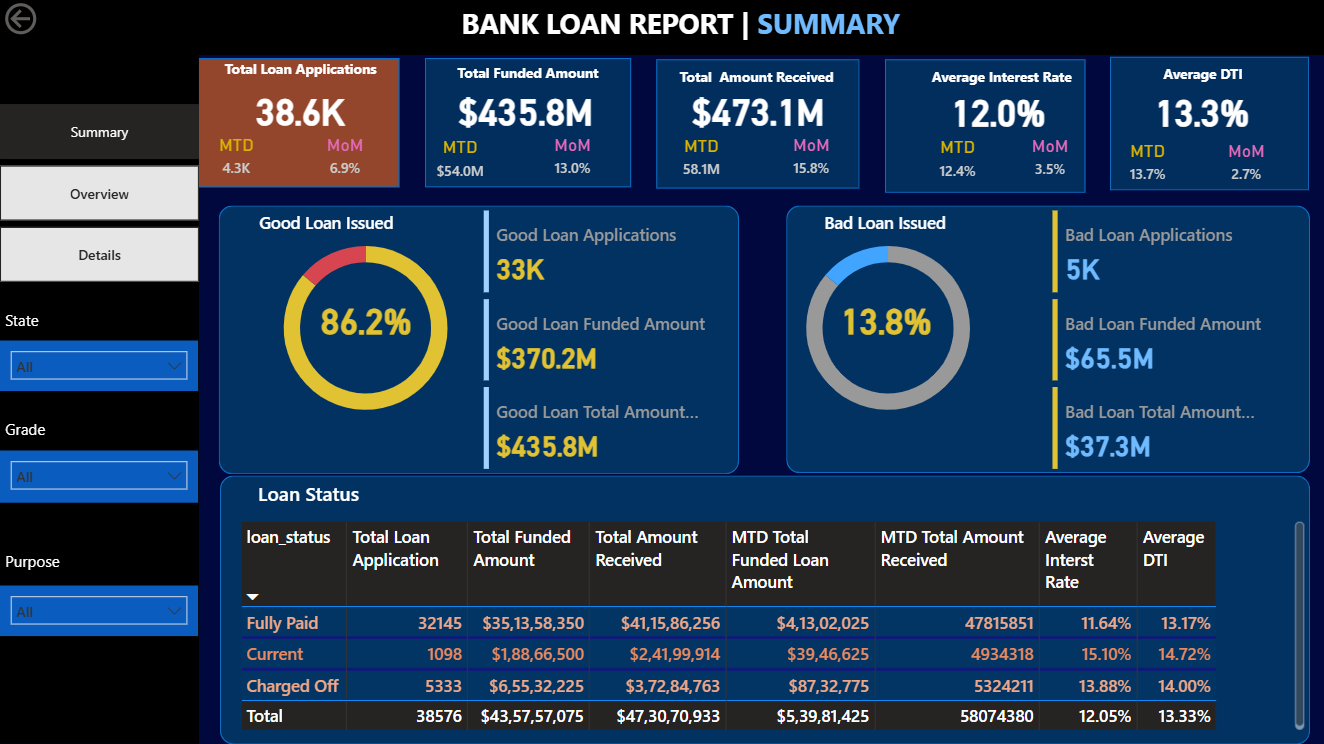

This screenshot's page, from the dashboard's own definition file:
{"tool":"powerbi","page":{"name":"Summary","canvas":[1280,720],"ordinal":0},"visuals":[{"type":"shape","box":[0,0,1280.3,55],"z":0},{"type":"shape","box":[190.7,57.6,194.9,124.9],"z":1000},{"type":"shape","box":[0,54.9,192,665.5],"z":2000},{"type":"card","fields":{"Values":["Bank_loan_data.Total Loan Application"]},"box":[226.4,57.6,126.2,98.8],"z":3000},{"type":"textbox","box":[440.5,1.4,447.3,53.5],"z":4000},{"type":"textbox","box":[211.3,54.9,157.8,45.3],"z":5000},{"type":"card","title":"MTD","fields":{"Values":["Bank_loan_data.MTD Loan Applications"]},"box":[192.1,131.7,72.7,50.8],"z":6000},{"type":"card","title":"MoM","fields":{"Values":["Bank_loan_data.MoM Loan Applications"]},"box":[296.4,131.7,72.7,50.8],"z":7000},{"type":"shape","box":[633.3,59,196.2,124.9],"z":8000},{"type":"card","fields":{"Values":["Bank_loan_data.Total Amount Received"]},"box":[661.4,57.6,141.3,98.8],"z":9000},{"type":"card","title":"MTD","fields":{"Values":["Bank_loan_data.MTD Total Amount Received"]},"box":[640.8,133.1,72.7,50.8],"z":10000},{"type":"card","title":"MoM","fields":{"Values":["Bank_loan_data.MoM Total Amount Received"]},"box":[746.5,131.7,72.7,50.8],"z":11000},{"type":"textbox","box":[642.2,61.7,177,45.3],"z":12000},{"type":"shape","box":[853.9,59,193.5,129],"z":13000},{"type":"card","title":"MTD","fields":{"Values":["Bank_loan_data.MTD Interest Rate"]},"box":[887.8,134.5,72.7,50.8],"z":14000},{"type":"card","title":"MoM","fields":{"Values":["Bank_loan_data.MoM Average Interset Rate"]},"box":[977,133.1,72.7,50.8],"z":15000},{"type":"textbox","box":[878.2,61.7,177,46.7],"z":16000},{"type":"card","fields":{"Values":["Bank_loan_data.Average Interst Rate"]},"box":[893.3,59,141.3,98.8],"z":17000},{"type":"shape","box":[1071.7,56.3,192.1,129],"z":18000},{"type":"card","title":"MTD","fields":{"Values":["Bank_loan_data.MTD Average DTI"]},"box":[1071.7,137.2,72.7,50.8],"z":19000},{"type":"card","title":"MoM","fields":{"Values":["Bank_loan_data.MoM Average DTI"]},"box":[1166.4,137.2,72.7,50.8],"z":20000},{"type":"card","fields":{"Values":["Bank_loan_data.Average DTI"]},"box":[1089.5,59,141.3,98.8],"z":21000},{"type":"textbox","box":[1073.1,59,177,46.7],"z":22000},{"type":"shape","box":[409.9,57.6,199,124.9],"z":23000},{"type":"card","fields":{"Values":["Bank_loan_data.Total Funded Amount"]},"box":[436.4,57.6,141.3,98.8],"z":24000},{"type":"textbox","box":[430.9,57.6,157.8,45.3],"z":25000},{"type":"card","title":"MTD","fields":{"Values":["Bank_loan_data.MTD Loan Amount"]},"box":[407.5,134.5,72.7,50.8],"z":26000},{"type":"card","title":"MoM","fields":{"Values":["Bank_loan_data.MoM Total Funded Amount"]},"box":[516,131.7,72.7,50.8],"z":27000},{"type":"shape","box":[211.3,200.3,502.2,259.3],"z":28000},{"type":"shape","box":[758.3,200.9,505.6,258.2],"z":29000},{"type":"donutChart","fields":{"Category":["Bank_loan_data.Good vs Bad Loan"],"Y":["Bank_loan_data.Total Loan Application"]},"box":[228.2,214.5,250,207.7],"z":30000},{"type":"card","fields":{"Values":["Bank_loan_data.Good Loan %"]},"box":[282.8,261,142.1,98.4],"z":31000},{"type":"textbox","box":[226.8,200.9,176.3,46.5],"z":32000},{"type":"cardVisual","fields":{"Data":["Bank_loan_data.Good Loan Applications","Bank_loan_data.Good Loan Funded Amount","Bank_loan_data.Good Loan Total Amount Received"]},"box":[461.8,200.9,251.4,259.6],"z":33000},{"type":"donutChart","fields":{"Category":["Bank_loan_data.Good vs Bad Loan"],"Y":["Bank_loan_data.Total Loan Application"]},"box":[732.4,214.5,250,207.7],"z":34000},{"type":"card","fields":{"Values":["Bank_loan_data.Bad Loan %"]},"box":[784.3,261,142.1,98.4],"z":35000},{"type":"cardVisual","fields":{"Data":["Bank_loan_data.Bad Loan Applications","Bank_loan_data.Bad Loan Funded Amount","Bank_loan_data.Bad Loan Total Amount Received"]},"box":[1011.1,200.9,251.4,259.6],"z":36000},{"type":"textbox","box":[766.5,200.9,176.3,46.5],"z":37000},{"type":"actionButton","box":[0,0,100,40],"z":38000},{"type":"shape","box":[211.8,460.5,1052.1,259.6],"z":39000},{"type":"tableEx","fields":{"Values":["Bank_loan_data.loan_status","Bank_loan_data.Total Loan Application","Bank_loan_data.Total Funded Amount","Bank_loan_data.Total Amount Received","Bank_loan_data.MTD Total Funded Loan Amount","Bank_loan_data.MTD Total Amount Received","Bank_loan_data.Average Interst Rate","Bank_loan_data.Average DTI"]},"box":[226.8,500.1,1037.1,210.4],"z":40000},{"type":"textbox","box":[211.8,460.5,176.3,46.5],"z":41000},{"type":"slicer","fields":{"Values":["Bank_loan_data.address_state"]},"box":[0,330.3,190.9,48.5],"z":42000},{"type":"textbox","box":[0,295.5,60.6,30.3],"z":43000},{"type":"slicer","fields":{"Values":["Bank_loan_data.grade"]},"box":[0,436.4,190.9,50],"z":44000},{"type":"textbox","box":[0,400,60.6,36.4],"z":45000},{"type":"slicer","fields":{"Values":["Bank_loan_data.grade"]},"box":[0,566.7,190.9,48.5],"z":46000},{"type":"textbox","box":[0,528.8,72.7,37.9],"z":47000},{"type":"pageNavigator","box":[0,103,192.4,171.2],"z":48000}]}

Visuals, with their boxes on the page's 1280x720 design canvas (x1, y1, x2, y2). These are canvas units, not pixel positions in the 1324x744 screenshot, which may show the page scaled, cropped or inside an application window:
shape: [0, 0, 1280, 55]
shape: [191, 58, 386, 182]
shape: [0, 55, 192, 720]
card - Bank_loan_data.Total Loan Application: [226, 58, 353, 156]
textbox: [440, 1, 888, 55]
textbox: [211, 55, 369, 100]
"MTD" card: [192, 132, 265, 182]
"MoM" card: [296, 132, 369, 182]
shape: [633, 59, 830, 184]
card - Bank_loan_data.Total Amount Received: [661, 58, 803, 156]
"MTD" card: [641, 133, 714, 184]
"MoM" card: [746, 132, 819, 182]
textbox: [642, 62, 819, 107]
shape: [854, 59, 1047, 188]
"MTD" card: [888, 134, 960, 185]
"MoM" card: [977, 133, 1050, 184]
textbox: [878, 62, 1055, 108]
card - Bank_loan_data.Average Interst Rate: [893, 59, 1035, 158]
shape: [1072, 56, 1264, 185]
"MTD" card: [1072, 137, 1144, 188]
"MoM" card: [1166, 137, 1239, 188]
card - Bank_loan_data.Average DTI: [1090, 59, 1231, 158]
textbox: [1073, 59, 1250, 106]
shape: [410, 58, 609, 182]
card - Bank_loan_data.Total Funded Amount: [436, 58, 578, 156]
textbox: [431, 58, 589, 103]
"MTD" card: [408, 134, 480, 185]
"MoM" card: [516, 132, 589, 182]
shape: [211, 200, 714, 460]
shape: [758, 201, 1264, 459]
donutChart - Bank_loan_data.Good vs Bad Loan x Bank_loan_data.Total Loan Application: [228, 214, 478, 422]
card - Bank_loan_data.Good Loan %: [283, 261, 425, 359]
textbox: [227, 201, 403, 247]
cardVisual - Bank_loan_data.Good Loan Applications x Bank_loan_data.Good Loan Funded Amount: [462, 201, 713, 460]
donutChart - Bank_loan_data.Good vs Bad Loan x Bank_loan_data.Total Loan Application: [732, 214, 982, 422]
card - Bank_loan_data.Bad Loan %: [784, 261, 926, 359]
cardVisual - Bank_loan_data.Bad Loan Applications x Bank_loan_data.Bad Loan Funded Amount: [1011, 201, 1262, 460]
textbox: [766, 201, 943, 247]
actionButton: [0, 0, 100, 40]
shape: [212, 460, 1264, 720]
tableEx - Bank_loan_data.loan_status x Bank_loan_data.Total Loan Application: [227, 500, 1264, 710]
textbox: [212, 460, 388, 507]
slicer - Bank_loan_data.address_state: [0, 330, 191, 379]
textbox: [0, 296, 61, 326]
slicer - Bank_loan_data.grade: [0, 436, 191, 486]
textbox: [0, 400, 61, 436]
slicer - Bank_loan_data.grade: [0, 567, 191, 615]
textbox: [0, 529, 73, 567]
pageNavigator: [0, 103, 192, 274]
